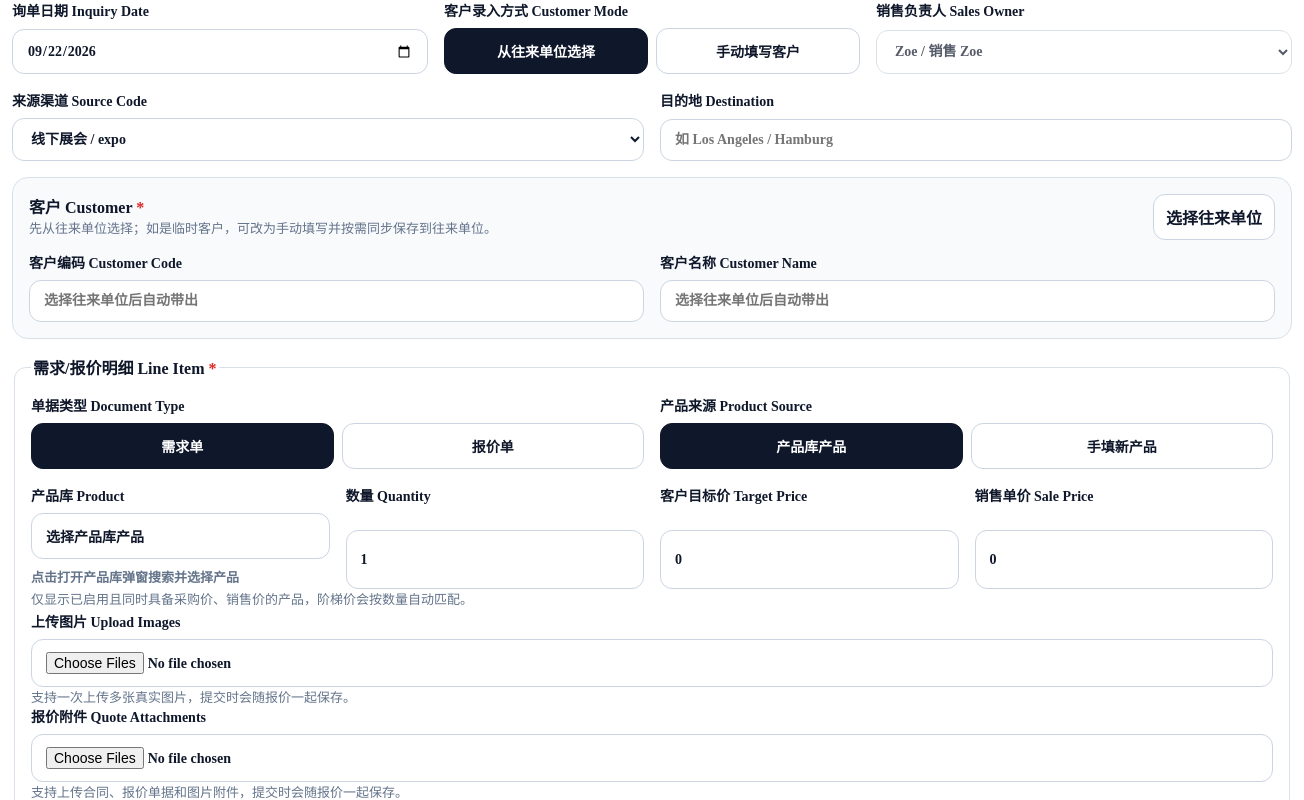
formal quote create page › switches customer mode from existing to manual with explicit buttons
The image size is (1304, 800).
Click the button "手动填写客户" at (758, 51), box [656,28,860,74]
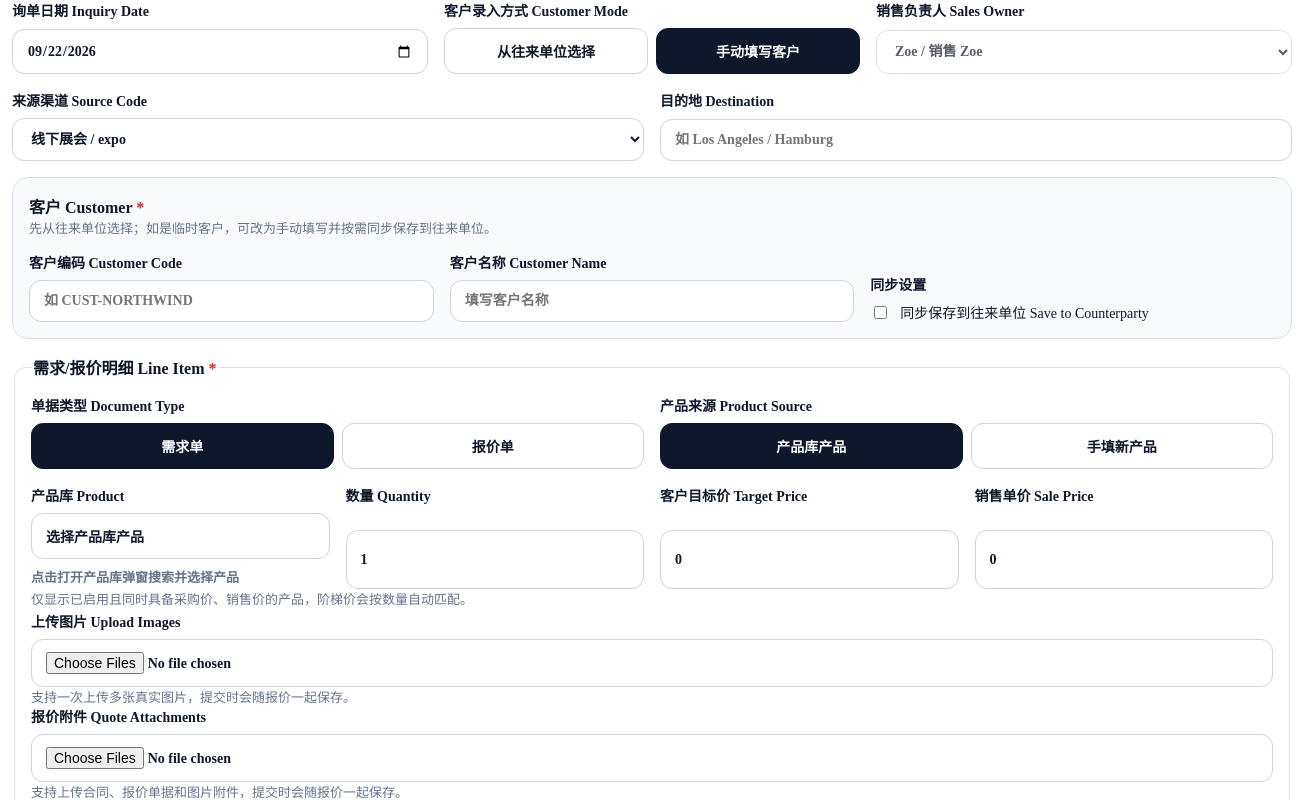
Expected: the button "选择往来单位" is gone
